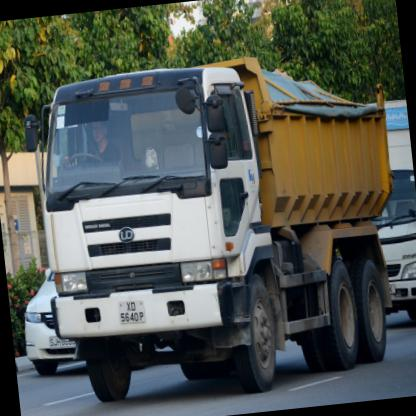truck: (28, 55, 289, 413)
